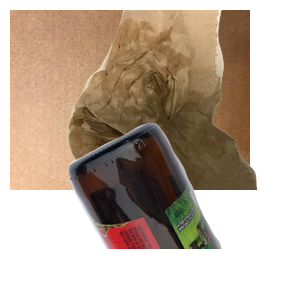cardboard: (10, 10, 250, 190)
glass: (66, 120, 300, 300)
plastic: (88, 182, 242, 300)
trash: (65, 10, 300, 190)
